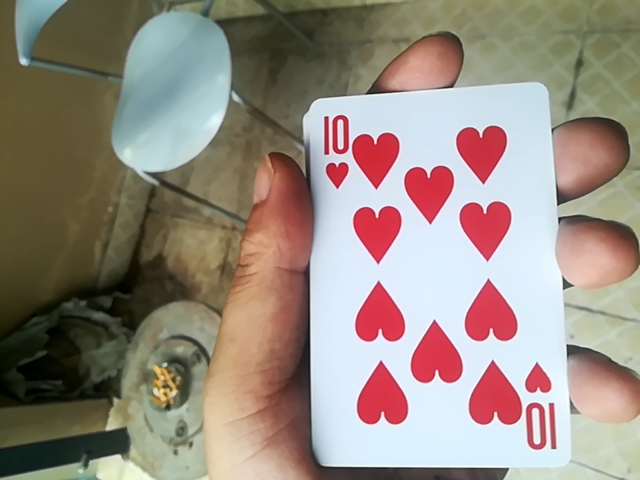hx 10: (313, 83, 572, 474)
